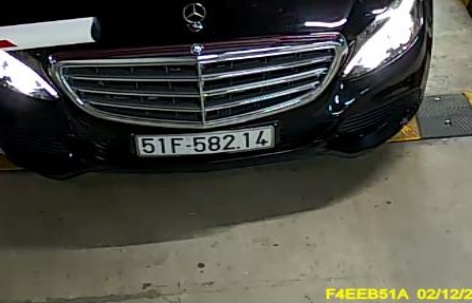plate: (131, 122, 278, 157)
